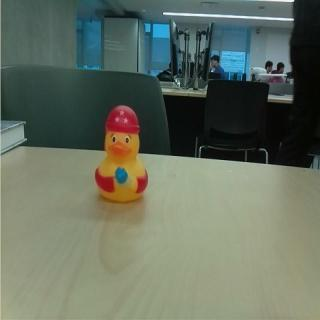duck_specialty: (94, 104, 150, 204)
